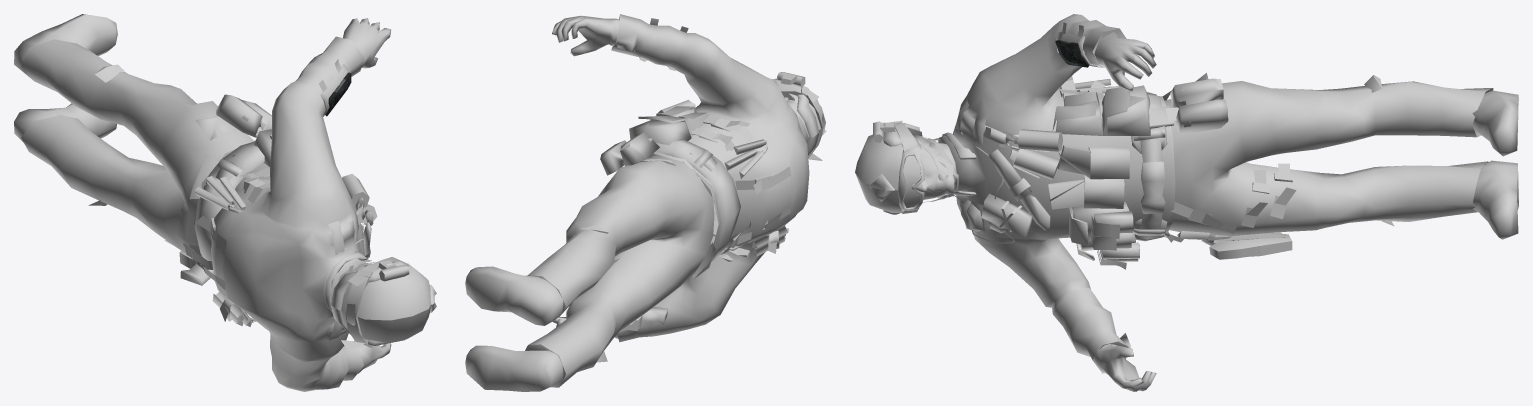
The model's file is c_mul_mp_pmc_assault_fb_LOD1.obj.
3 views of the same model, side by side, from view 1: azimuth 30°, elevation 25°; view 2: azimuth 150°, elevation 25°; view 3: azimuth 270°, elevation 25° (orthographic). The views are drawn at different scales.
Parts seen in each view (by area): view 1: mtl_c_mul_mp_pmc_upperbody1, mtl_c_mul_mp_pmc_lbr, mtl_c_mul_mp_pmc_gear_main_1, mtl_c_mul_mp_pmc_helmet1, mtl_c_mul_mp_pmc_gloves1, mtl_c_mul_mp_pmc_ass_gear, mtl_c_gen_mp_datapad; view 2: mtl_c_mul_mp_pmc_lbr, mtl_c_mul_mp_pmc_upperbody1, mtl_c_mul_mp_pmc_gear_main_1, mtl_c_mul_mp_pmc_helmet1, mtl_c_mul_mp_pmc_gloves1, mtl_c_mul_mp_pmc_ass_gear; view 3: mtl_c_mul_mp_pmc_lbr, mtl_c_mul_mp_pmc_upperbody1, mtl_c_mul_mp_pmc_gear_main_1, mtl_c_mul_mp_pmc_ass_gear, mtl_c_mul_mp_pmc_helmet1, mtl_c_mul_mp_pmc_gloves1, mtl_c_mul_mp_pmc_head_1, mtl_c_mul_mp_pmc_glasses, mtl_c_gen_mp_datapad.
Boxes of the visible parts, x1,y1,x2,y2 form: mtl_c_mul_mp_pmc_upperbody1: (183, 36, 367, 391); mtl_c_mul_mp_pmc_lbr: (21, 39, 254, 269); mtl_c_mul_mp_pmc_gear_main_1: (14, 14, 377, 326); mtl_c_mul_mp_pmc_helmet1: (330, 257, 436, 350); mtl_c_mul_mp_pmc_gloves1: (343, 18, 391, 375); mtl_c_mul_mp_pmc_ass_gear: (164, 110, 363, 285); mtl_c_gen_mp_datapad: (325, 72, 351, 116); mtl_c_mul_mp_pmc_lbr: (525, 155, 715, 387); mtl_c_mul_mp_pmc_upperbody1: (611, 14, 809, 342); mtl_c_mul_mp_pmc_gear_main_1: (465, 100, 789, 391); mtl_c_mul_mp_pmc_helmet1: (772, 72, 826, 160); mtl_c_mul_mp_pmc_gloves1: (552, 15, 619, 338); mtl_c_mul_mp_pmc_ass_gear: (619, 135, 667, 332); mtl_c_mul_mp_pmc_lbr: (1162, 73, 1493, 235); mtl_c_mul_mp_pmc_upperbody1: (938, 14, 1175, 373); mtl_c_mul_mp_pmc_gear_main_1: (942, 78, 1518, 269); mtl_c_mul_mp_pmc_ass_gear: (1048, 89, 1292, 259); mtl_c_mul_mp_pmc_helmet1: (855, 120, 958, 214); mtl_c_mul_mp_pmc_gloves1: (1094, 32, 1156, 391); mtl_c_mul_mp_pmc_head_1: (898, 134, 956, 199); mtl_c_mul_mp_pmc_glasses: (903, 155, 920, 208); mtl_c_gen_mp_datapad: (1055, 40, 1089, 67).
Size of the model in its own units: 67.96 by 106 by 185.
